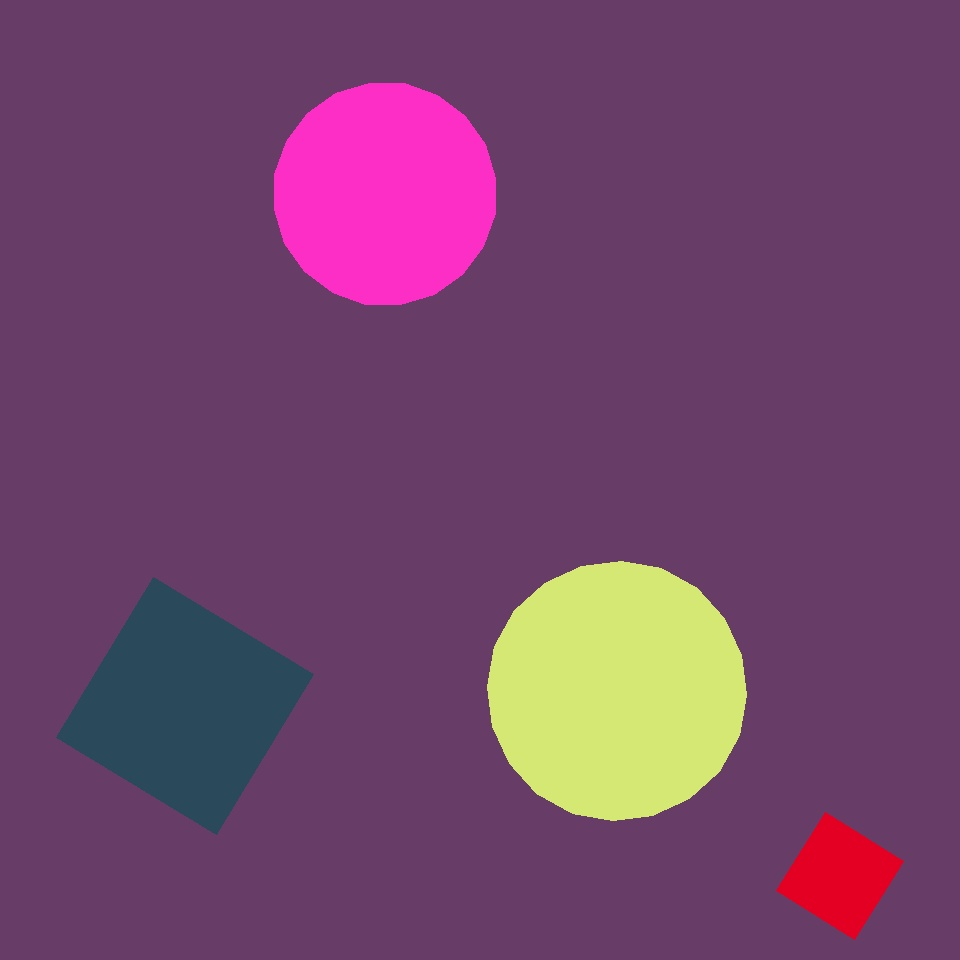square: (57, 578, 314, 835), (776, 812, 904, 940)
triangle: (488, 562, 746, 820), (274, 84, 496, 304)
